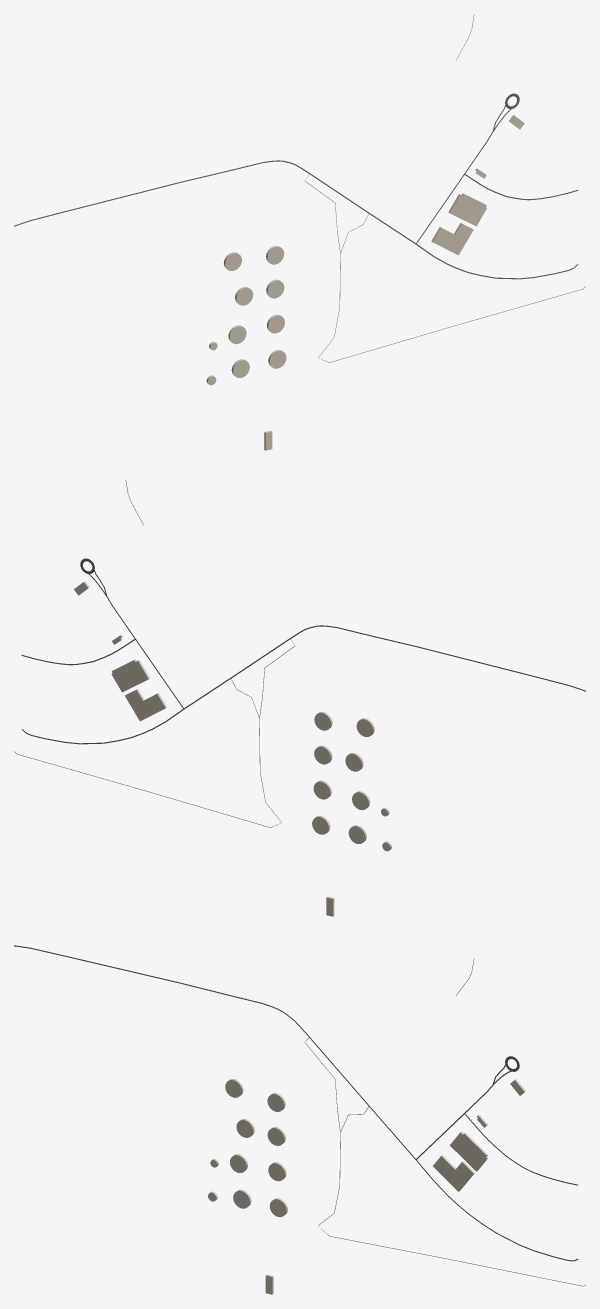
The model's file is historic-palestine-05_24_3469_3184.glb.
The picture shows the model from 3 angles, top to bottom: view 1: azimuth 30°, elevation 25°; view 2: azimuth 150°, elevation 25°; view 3: azimuth 330°, elevation 25°; orthographic projection.
Visible parts, largest first — view 1: Road המגדלור, Building_.012, Building_.011; view 2: Road המגדלור, Building_.012, Building_.011; view 3: Road המגדלור, Building_.012, Building_.011.
Part boxes in pixels (x1,y1,x2,y2): Road המגדלור: (14, 160, 577, 279); Building_.012: (448, 193, 486, 226); Building_.011: (431, 223, 473, 255); Road המגדלור: (22, 625, 585, 744); Building_.012: (111, 659, 149, 692); Building_.011: (125, 689, 166, 721); Road המגדלור: (14, 945, 578, 1261); Building_.012: (450, 1131, 488, 1171); Building_.011: (433, 1155, 474, 1191).
Size of the model in its own units: 1754 by 1131 by 8.7.
